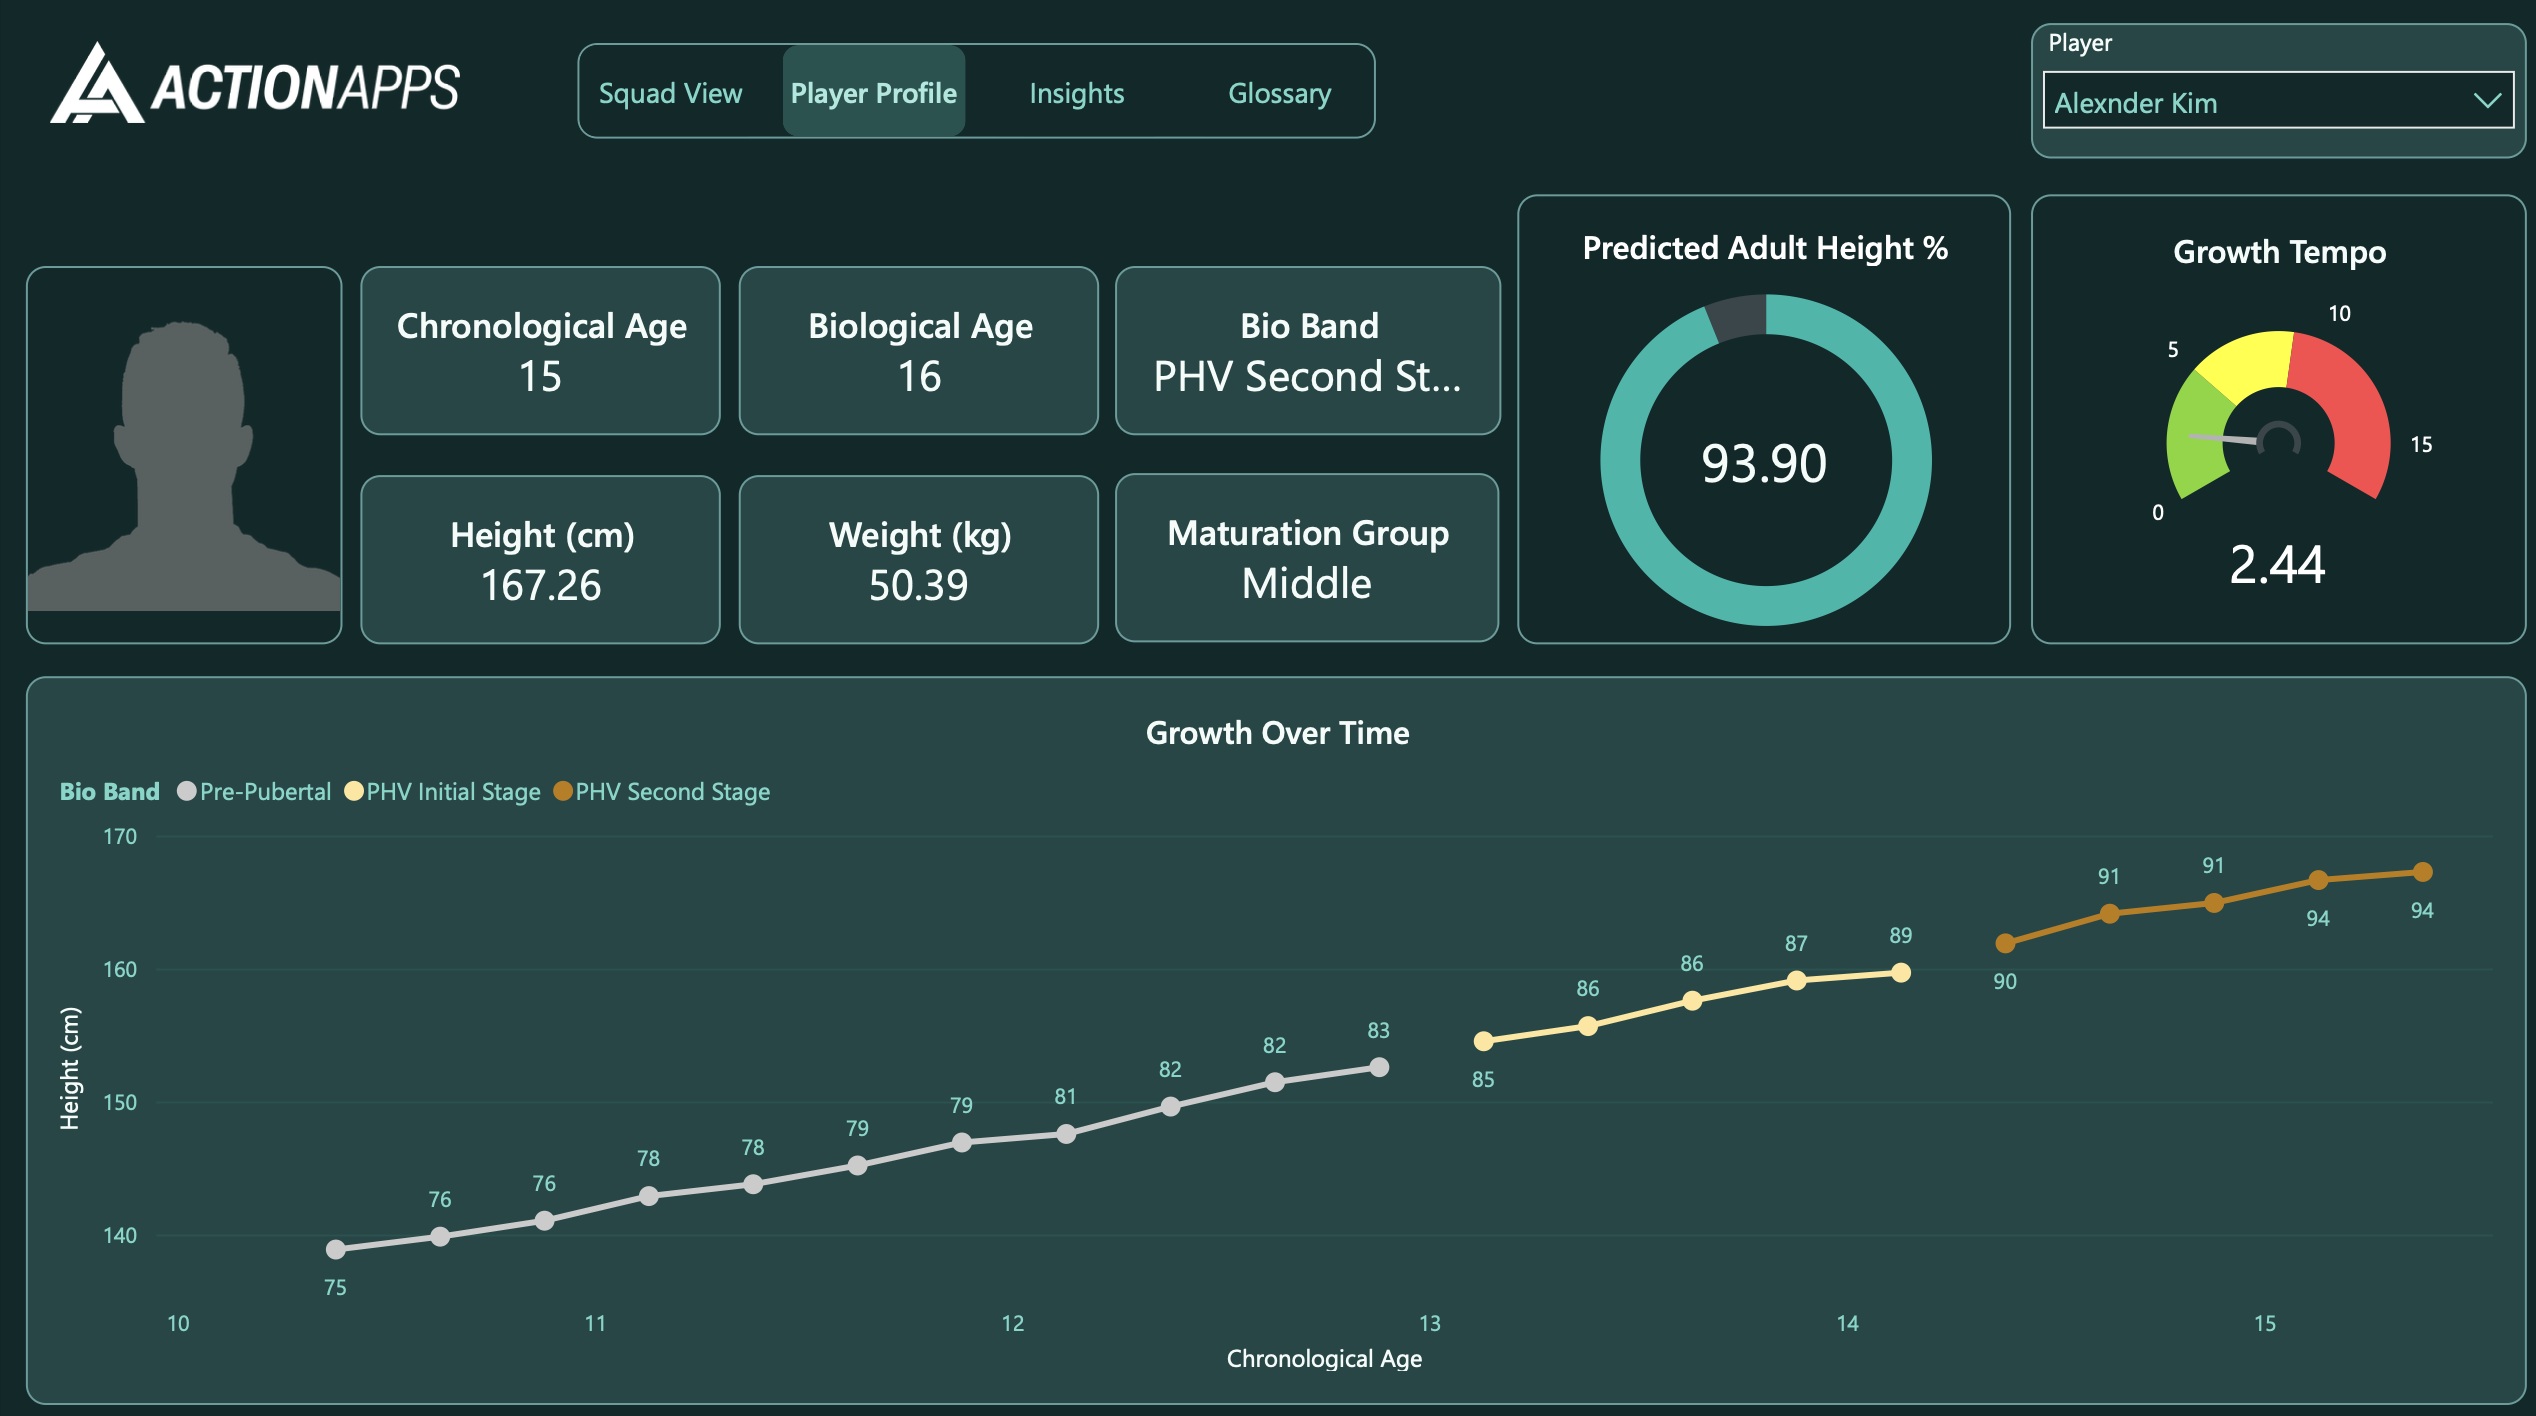

Layout of this report page (visuals, bound fields, positions):
{"tool":"powerbi","page":{"name":"Player Profile","canvas":[1280,720],"ordinal":1},"visuals":[{"type":"slicer","fields":{"Values":["AM_HPP.Player Name"]},"box":[1019.9,13.5,248.7,68.2],"z":0},{"type":"lineChart","title":"Growth Over Time","fields":{"Y":["Avg(AM_HPP.Height (cm))"],"Series":["AM_HPP.Bio Band"],"Category":["AM_HPP.Chronological Age"]},"box":[12.6,341.1,1256,366.3],"z":1000},{"type":"card","title":"Bio Band","fields":{"Values":["Min(AM_HPP.Bio Band)"]},"box":[560.1,134.9,193.8,84.9],"z":2000},{"type":"card","title":"Chronological Age","fields":{"Values":["Avg(AM_HPP.Chronological Age)"]},"box":[181.2,134.7,181.2,85],"z":3000},{"type":"card","title":"Weight (kg)","fields":{"Values":["Avg(AM_HPP.Weight (kg))"]},"box":[371.5,239.7,181.2,85],"z":4000},{"type":"card","title":"Height (cm)","fields":{"Values":["Avg(AM_HPP.Height (cm))"]},"box":[181.2,239.7,181.2,85],"z":5000},{"type":"image","box":[12.5,135,158.8,190],"z":6000},{"type":"card","title":"Biological Age","fields":{"Values":["Avg(AM_HPP.Biological Age)"]},"box":[371.5,134.7,181.2,85],"z":7000},{"type":"Tachometer1474636471549","title":"Growth Tempo","fields":{"Y":["Avg(AM_HPP.Growth Tempo)"],"Range2StartValue":["AM_HPP.GaugeFive"],"Range3StartValue":["AM_HPP.GaugeNine"],"EndValue":["AM_HPP.GaugeMax"]},"box":[1019.9,98.8,248.7,226.2],"z":8000},{"type":"card","title":"Maturation Group","fields":{"Values":["Min(AM_HPP.Group)"]},"box":[560.1,239.4,193,84.9],"z":9000},{"type":"CircularGauge1458053128559","title":"Predicted Adult Height %","fields":{"TargetValue":["AM_HPP.MaxPAH"],"ActualValue":["Avg(AM_HPP.PAH100)"]},"box":[712.2,98.5,350,242.5],"z":10000},{"type":"card","fields":{"Values":["Avg(AM_HPP.PAH100)"]},"box":[817.5,184.7,138.8,97.5],"z":11000},{"type":"shape","box":[762.2,98.8,247.8,226.2],"z":12000},{"type":"pageNavigator","box":[290,23.3,401.3,48.5],"z":13000},{"type":"image","box":[25.1,15.3,205.6,54.8],"z":14000}]}

Visuals, with their boxes in screenshot pixels (x1, y1, x2, y2), scaled from the page's 1280x720 canvas onto the 2536x1416 screenshot:
slicer - AM_HPP.Player Name: (2021,27,2513,161)
"Growth Over Time" lineChart: (25,671,2513,1391)
"Bio Band" card: (1110,265,1494,432)
"Chronological Age" card: (359,265,718,432)
"Weight (kg)" card: (736,471,1095,639)
"Height (cm)" card: (359,471,718,639)
image: (25,266,339,639)
"Biological Age" card: (736,265,1095,432)
"Growth Tempo" Tachometer1474636471549: (2021,194,2513,639)
"Maturation Group" card: (1110,471,1492,638)
"Predicted Adult Height %" CircularGauge1458053128559: (1411,194,2104,671)
card - Avg(AM_HPP.PAH100): (1620,363,1895,555)
shape: (1510,194,2001,639)
pageNavigator: (575,46,1370,141)
image: (50,30,457,138)
